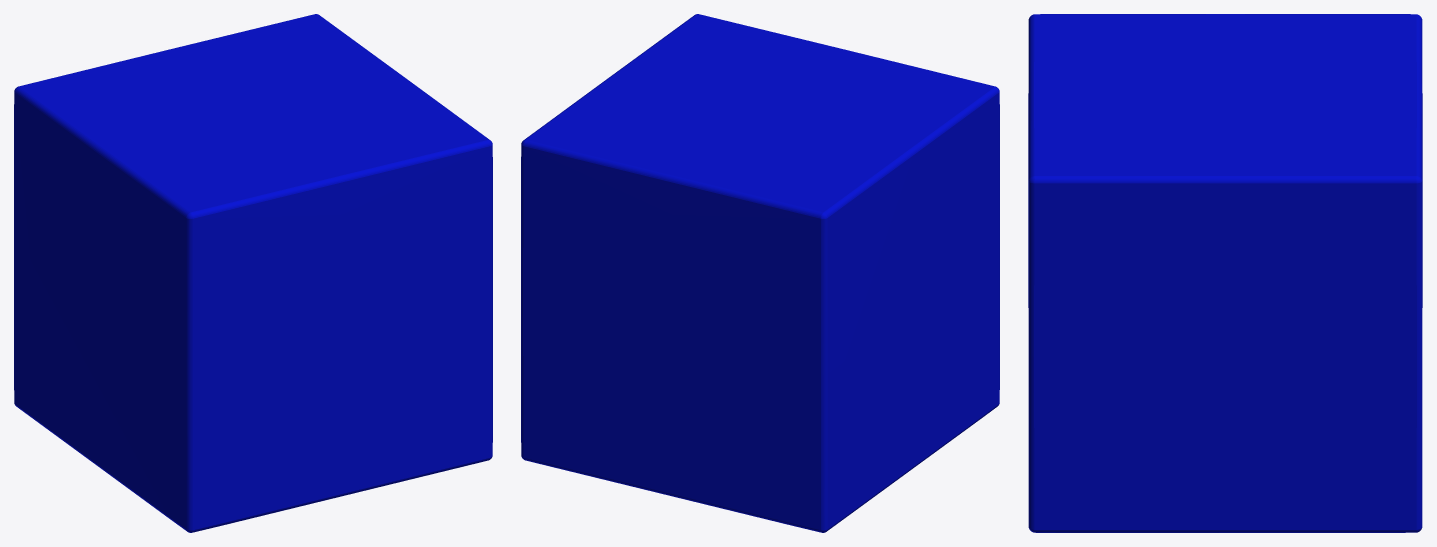
File: COL_Table.dae
3 renders of one model, left to right at view 1: azimuth 30°, elevation 25°; view 2: azimuth 150°, elevation 25°; view 3: azimuth 270°, elevation 25°, orthographic. The views are drawn at different scales.
Parts seen in each view (by area): view 1: COL_COL_COL_VIS_VIS_VIS_VIS_VIS_VIS_VIS_Table_0_0_0_0_0_0_0_; view 2: COL_COL_COL_VIS_VIS_VIS_VIS_VIS_VIS_VIS_Table_0_0_0_0_0_0_0_; view 3: COL_COL_COL_VIS_VIS_VIS_VIS_VIS_VIS_VIS_Table_0_0_0_0_0_0_0_.
Boxes of the visible parts, x1,y1,x2,y2 form: COL_COL_COL_VIS_VIS_VIS_VIS_VIS_VIS_VIS_Table_0_0_0_0_0_0_0_: (14, 14, 492, 532); COL_COL_COL_VIS_VIS_VIS_VIS_VIS_VIS_VIS_Table_0_0_0_0_0_0_0_: (521, 14, 999, 532); COL_COL_COL_VIS_VIS_VIS_VIS_VIS_VIS_VIS_Table_0_0_0_0_0_0_0_: (1028, 14, 1422, 532).
Bounding box in the file's own units: 1.04 × 1.04 × 1.04.
